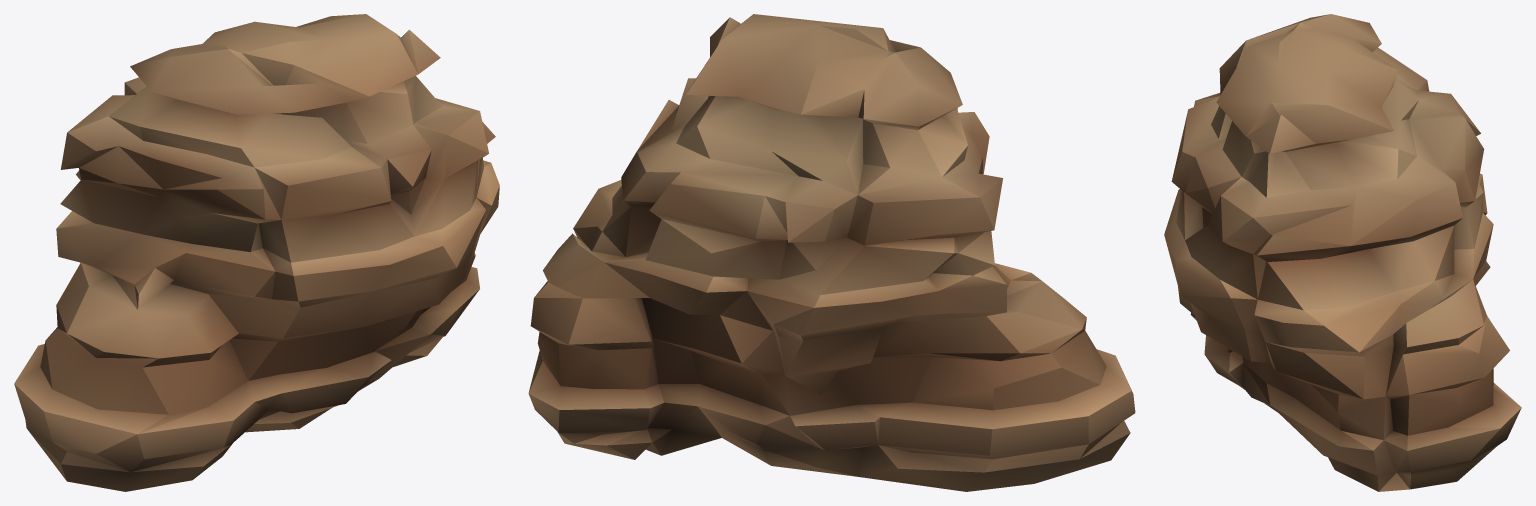
File: rock_b.glb
3 views of the same model, side by side, from view 1: azimuth 30°, elevation 25°; view 2: azimuth 150°, elevation 25°; view 3: azimuth 270°, elevation 25° (orthographic). The views are drawn at different scales.
Visible parts, largest first — view 1: RockB; view 2: RockB; view 3: RockB.
Part boxes in pixels (left/top/right/bottom): RockB: left=14, top=14, right=499, bottom=491; RockB: left=528, top=14, right=1135, bottom=491; RockB: left=1164, top=14, right=1521, bottom=491.
Size of the model in its own units: 8.62 by 6.32 by 5.78.
